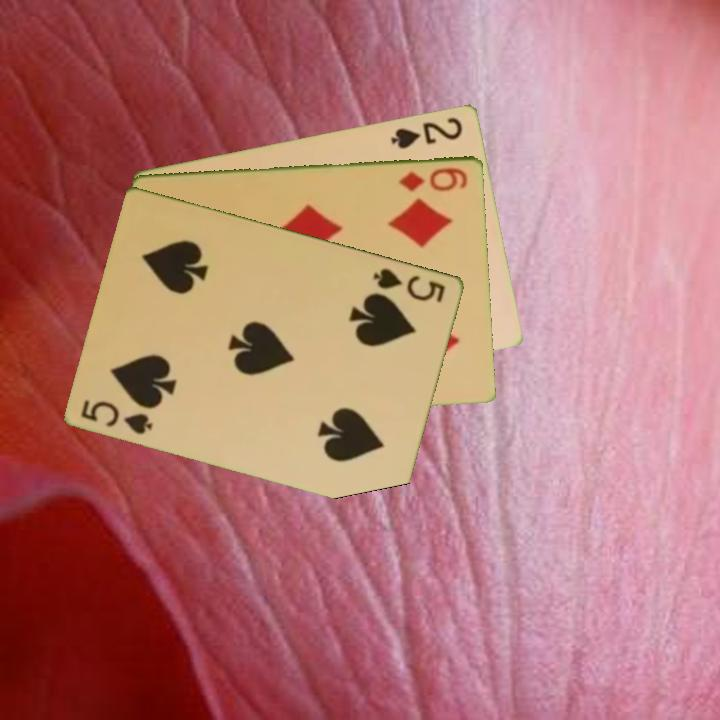2s: (388, 113, 466, 151)
5s: (370, 264, 449, 305), (78, 396, 156, 437)
6d: (395, 163, 471, 194)
